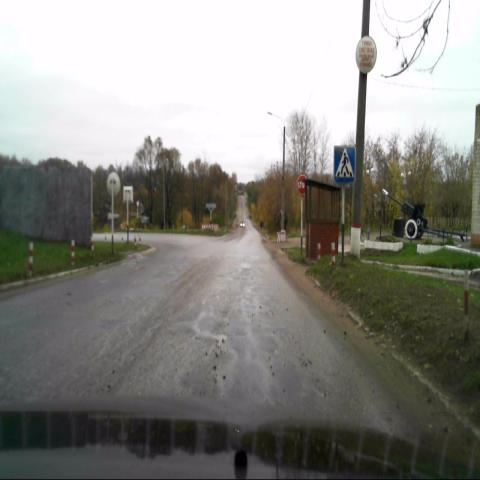2_5: (296, 174, 308, 196)
